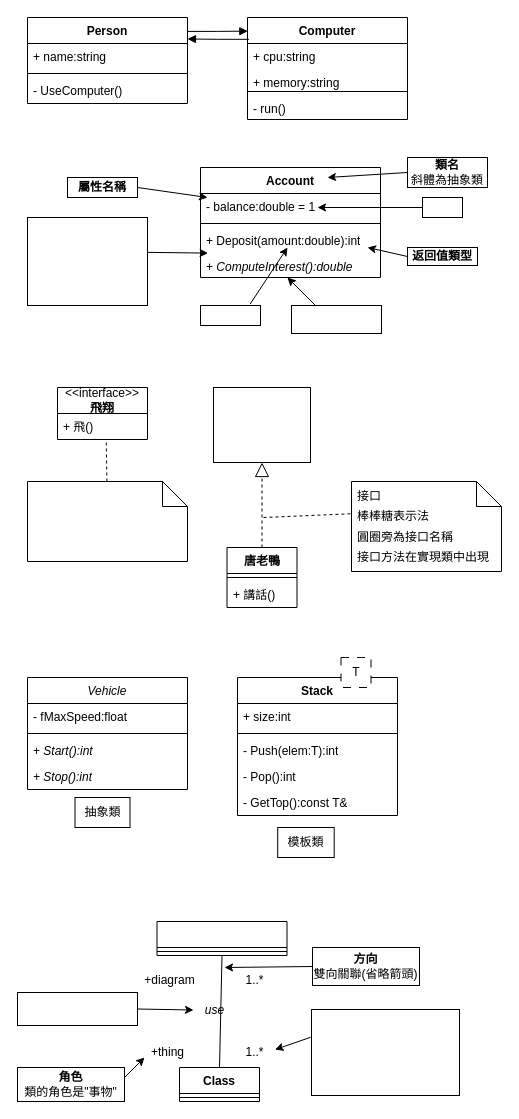
Some shapes in this 519 by 1119 pixel diagram are drawn without their labels. The centre of each missing label's shape, as x and y in pixels:
<<Interface>> 講人話 + 講話(): (261,424)
ClassDiagram: (221,938)
參數列表: (230,315)
可見性 -代表private -代表public -代表protected 也可以使用圖形表示: (87,261)
名字 關係的名字是"使用": (77,1009)
多重性 (用數字和*表示) 1...*:1個或多個 1個類圖有1個或多個類 1個類屬於1個或多個類圖: (385,1052)
接口 矩形表示法，頂端有<<interface>> 第一行:接口名稱 第二行:接口方法: (107,521)
操作名稱 斜體為抽象操作: (336,319)
缺省值: (442,207)
